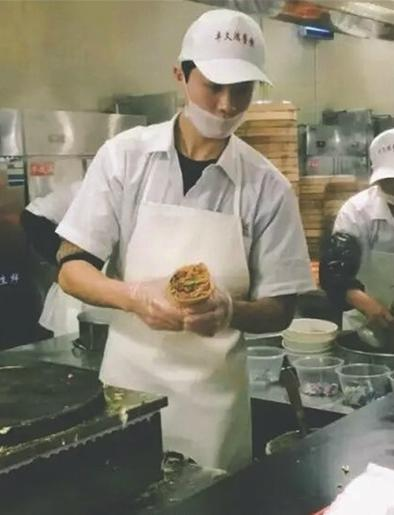WRONG: (184, 76, 250, 139)
